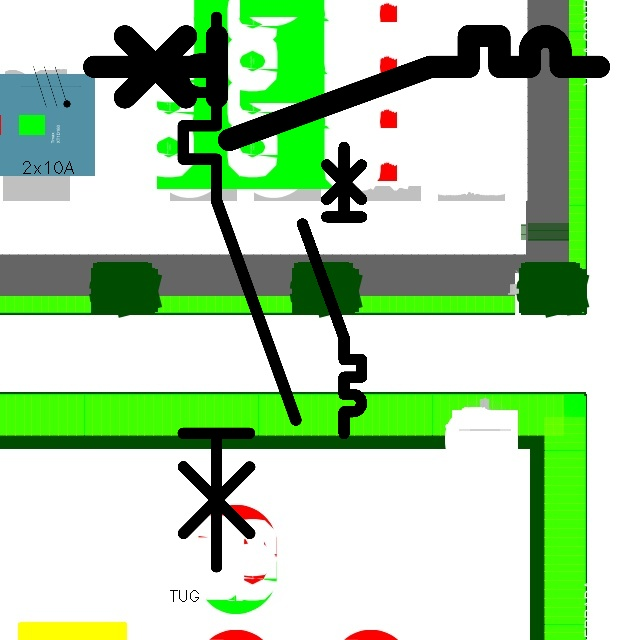interruptor_termomagnetico: (169, 3, 310, 581), (81, 23, 612, 153), (295, 140, 369, 441)
